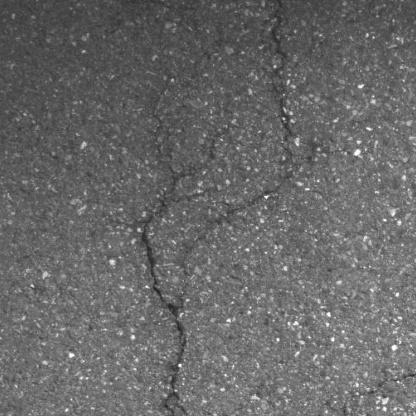Cracks: (136, 152, 210, 416), (339, 364, 416, 416), (268, 0, 296, 139), (205, 193, 273, 229)
